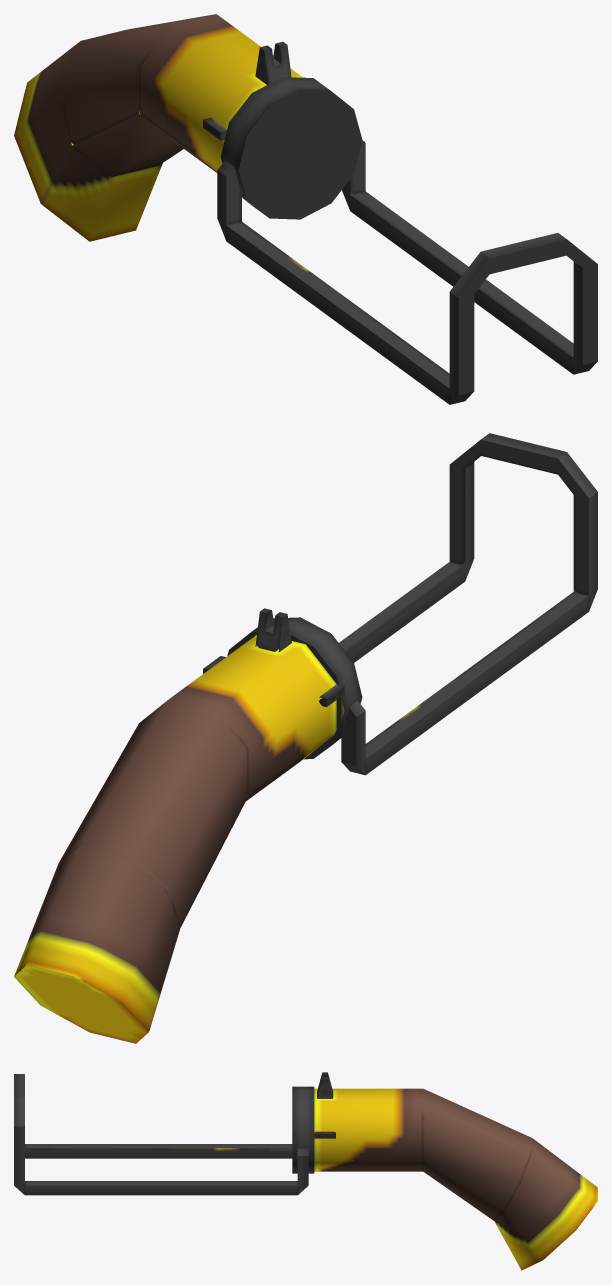
Rendered from pepperbox_grip.obj.
The picture shows the model from 3 angles, top to bottom: view 1: azimuth 30°, elevation 25°; view 2: azimuth 150°, elevation 25°; view 3: azimuth 270°, elevation 25°; orthographic projection. The views are drawn at different scales.
Parts seen in each view (by area): view 1: grip; view 2: grip; view 3: grip.
Part boxes in pixels (x1,y1,x2,y2): grip: (14,14,597,404); grip: (14,433,597,1043); grip: (14,1072,597,1270).
Bounding box in the file's own units: 2.25 × 4.75 × 13.38.
